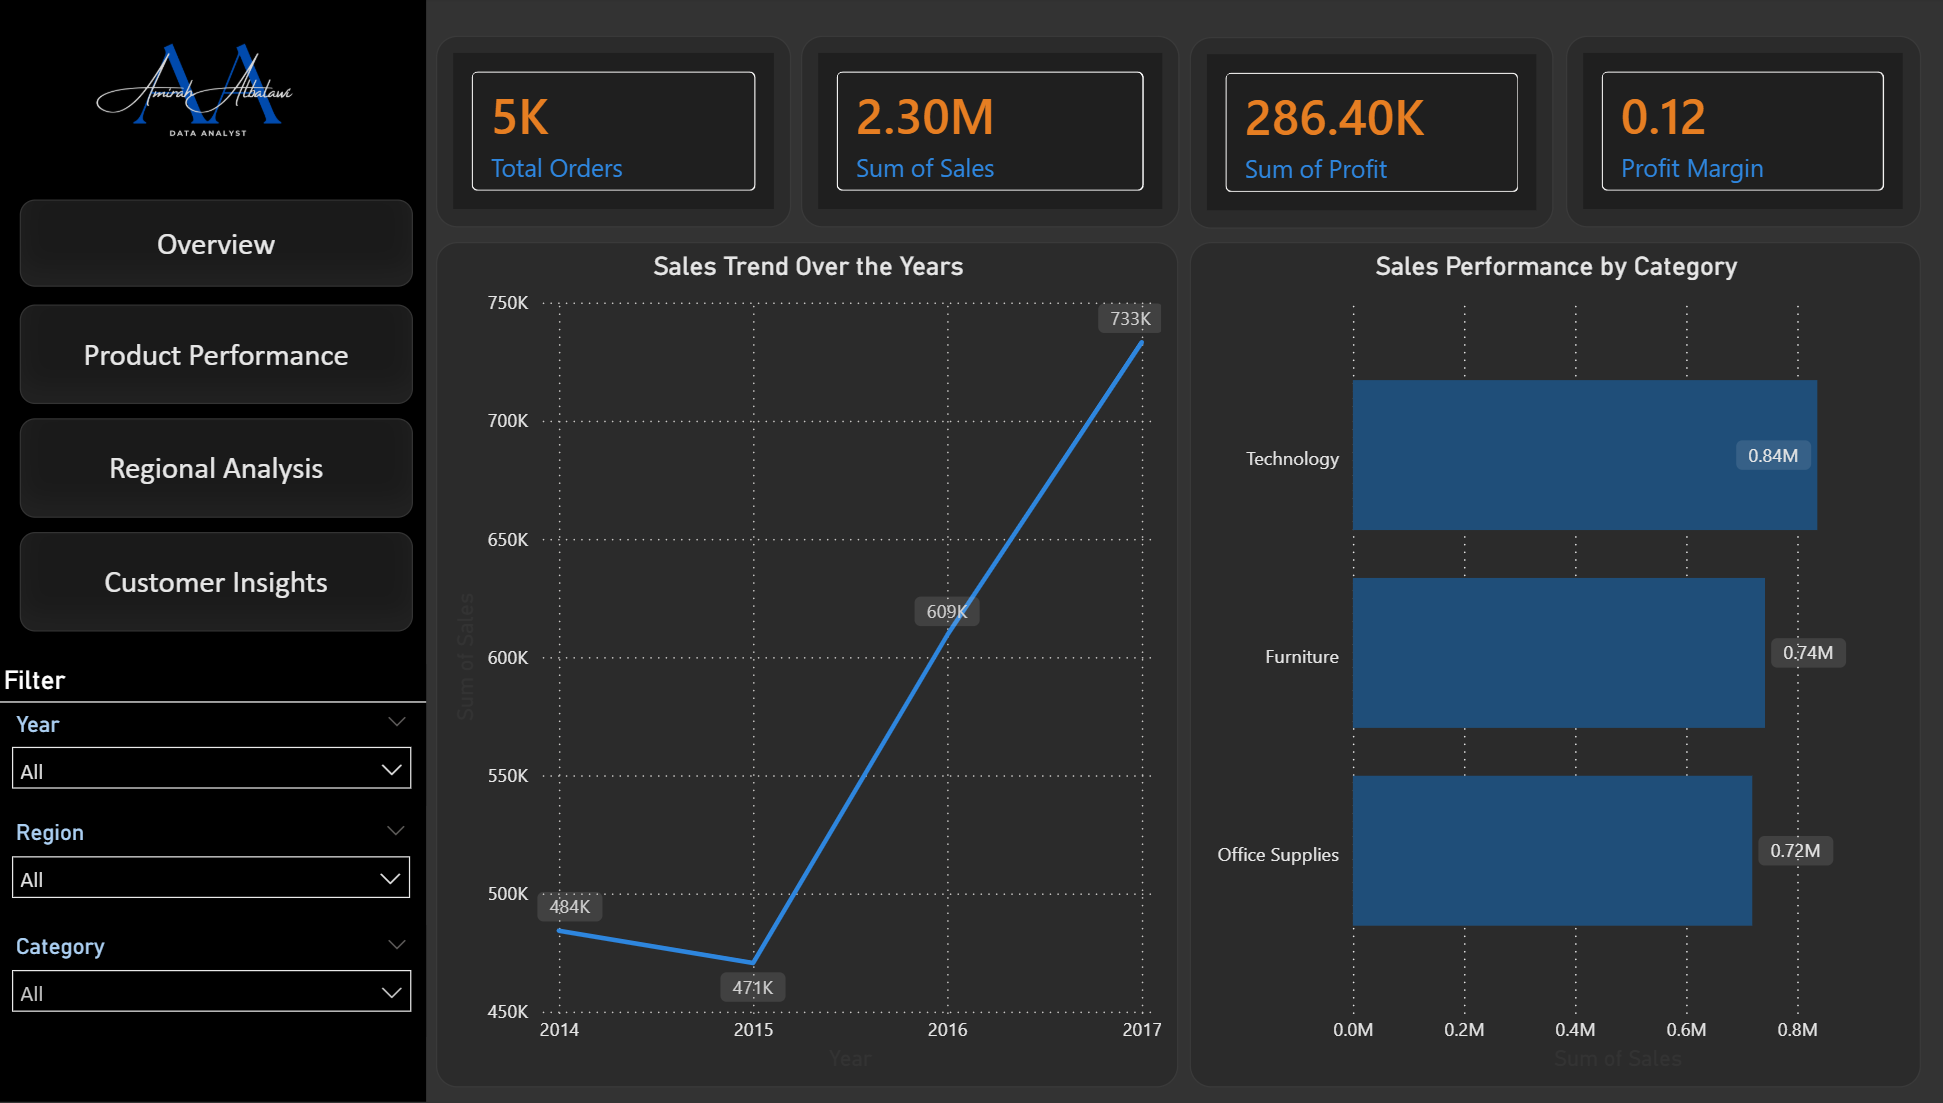

What the dashboard file says about the page in this screenshot:
{"tool":"powerbi","page":{"name":"Page 1","canvas":[1280,720],"ordinal":0},"visuals":[{"type":"shape","box":[0,0,280.2,719.6],"z":0},{"type":"cardVisual","fields":{"Data":["Sum(Sample - Superstore.Sales)"]},"box":[523.7,25.2,246.1,124.9],"z":1000},{"type":"cardVisual","fields":{"Data":["Sum(Sample - Superstore.Profit)"]},"box":[777,26,237.1,124.9],"z":2000},{"type":"cardVisual","fields":{"Data":["Sample - Superstore.Total Orders"]},"box":[286.4,25.2,231.1,124.5],"z":3000},{"type":"cardVisual","fields":{"Data":["Sample - Superstore.Profit Margin"]},"box":[1022.2,25.2,230.8,124.9],"z":4000},{"type":"lineChart","title":"Sales Trend Over the Years","fields":{"Category":["Sample - Superstore.Order Date.Variation.Date Hierarchy.Year","Sample - Superstore.Order Date.Variation.Date Hierarchy.Quarter","Sample - Superstore.Order Date.Variation.Date Hierarchy.Month","Sample - Superstore.Order Date.Variation.Date Hierarchy.Day"],"Y":["Sum(Sample - Superstore.Sales)"]},"box":[286.5,159.9,483.3,550.6],"z":5000},{"type":"slicer","title":"Filter","fields":{"Values":["Sample - Superstore.Order Date (bins)"]},"box":[0,434.8,280.3,91.6],"z":6000},{"type":"slicer","fields":{"Values":["Sample - Superstore.Region"]},"box":[0,530.9,279.4,73.7],"z":7000},{"type":"slicer","fields":{"Values":["Sample - Superstore.Category"]},"box":[0,604.5,280.3,71.9],"z":8000},{"type":"actionButton","box":[31.4,131.1,213.8,57.5],"z":9000},{"type":"actionButton","box":[31.4,200.3,213.8,64.7],"z":10000},{"type":"actionButton","box":[31.4,274.9,213.8,64.7],"z":11000},{"type":"actionButton","box":[31.4,348.5,213.8,64.7],"z":12000},{"type":"image","box":[49.4,18.9,181.4,86.2],"z":13000},{"type":"barChart","title":"Sales Performance by Category","fields":{"Y":["Sum(Sample - Superstore.Sales)"],"Category":["Sample - Superstore.Category"]},"box":[777,159.9,476.1,550.6],"z":14000}]}

Visuals, with their boxes in screenshot pixels (x1, y1, x2, y2), scaled from the page's 1280x720 canvas onto the 1943x1103 screenshot:
shape: left=0, top=0, right=425, bottom=1102
cardVisual - Sum(Sample - Superstore.Sales): left=795, top=39, right=1169, bottom=230
cardVisual - Sum(Sample - Superstore.Profit): left=1179, top=40, right=1539, bottom=231
cardVisual - Sample - Superstore.Total Orders: left=435, top=39, right=786, bottom=229
cardVisual - Sample - Superstore.Profit Margin: left=1552, top=39, right=1902, bottom=230
"Sales Trend Over the Years" lineChart: left=435, top=245, right=1169, bottom=1088
"Filter" slicer: left=0, top=666, right=425, bottom=806
slicer - Sample - Superstore.Region: left=0, top=813, right=424, bottom=926
slicer - Sample - Superstore.Category: left=0, top=926, right=425, bottom=1036
actionButton: left=48, top=201, right=372, bottom=289
actionButton: left=48, top=307, right=372, bottom=406
actionButton: left=48, top=421, right=372, bottom=520
actionButton: left=48, top=534, right=372, bottom=633
image: left=75, top=29, right=350, bottom=161
"Sales Performance by Category" barChart: left=1179, top=245, right=1902, bottom=1088
